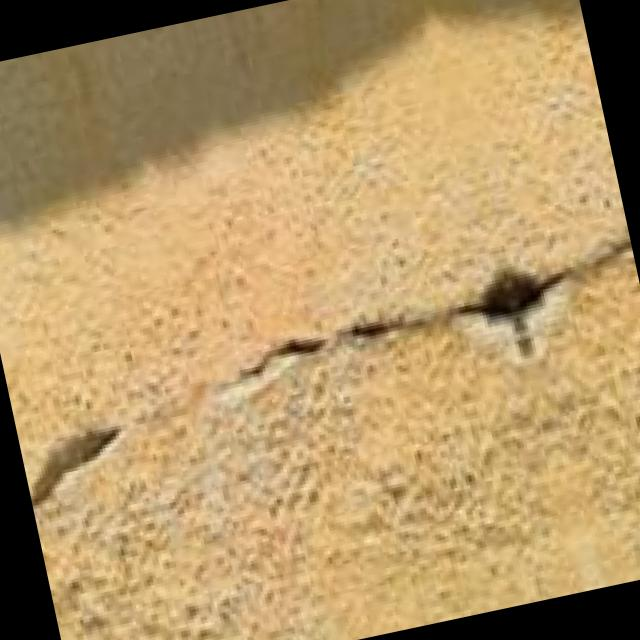crack: (0, 163, 640, 558)
